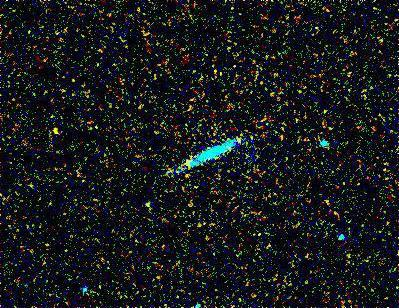star: (41, 116, 71, 146)
